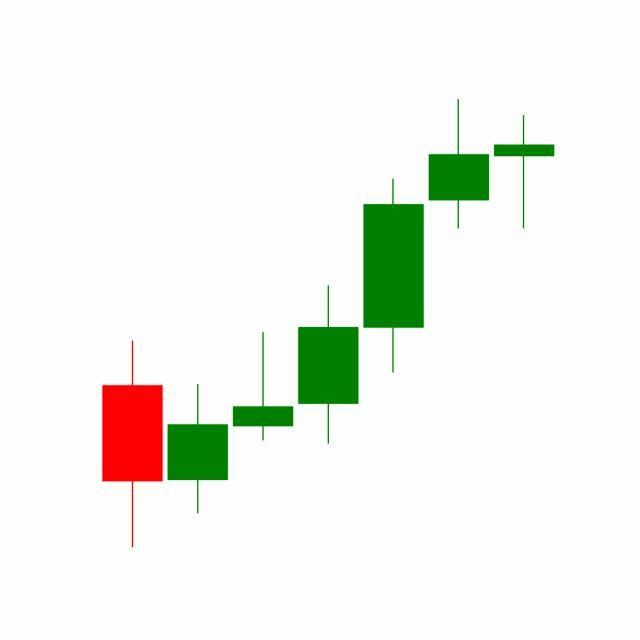Advance Block: (360, 99, 556, 377)
